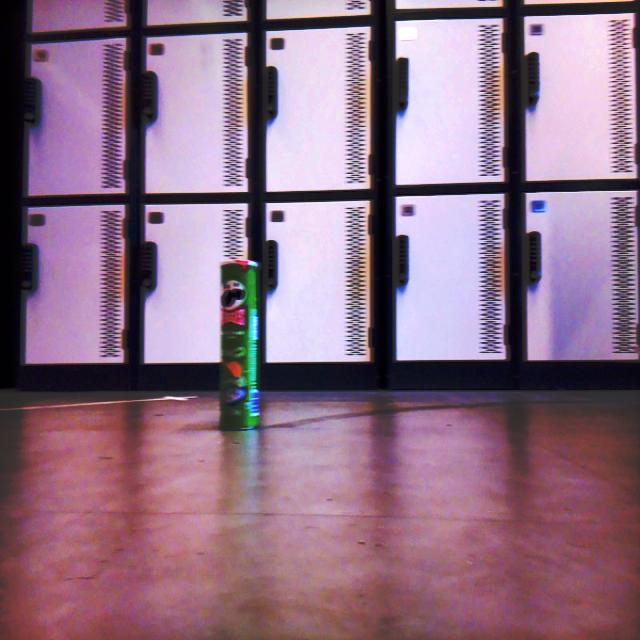greenpringles: (214, 246, 272, 440)
